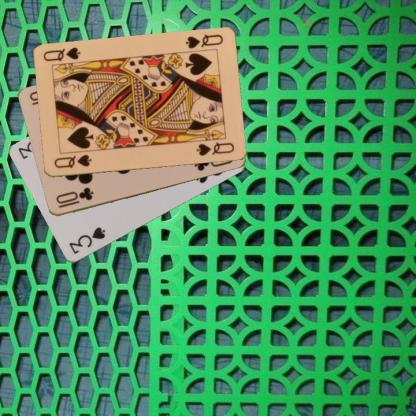10c: (53, 185, 95, 210)
3s: (66, 225, 107, 256)
Qs: (182, 32, 224, 50), (51, 152, 92, 170)
